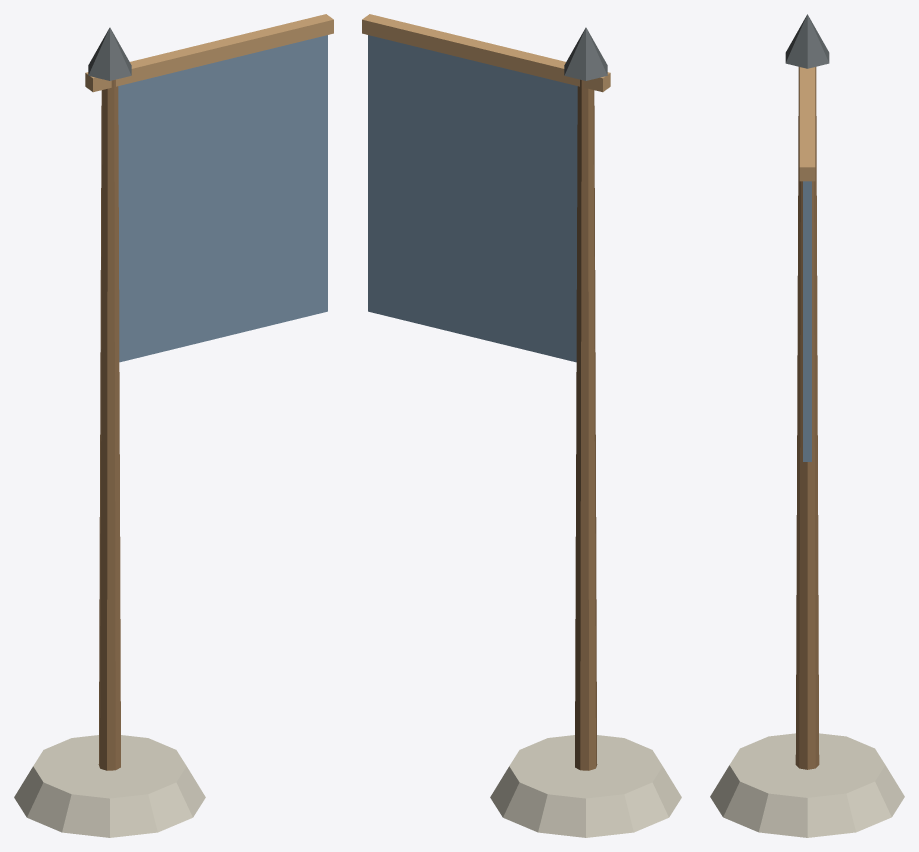
File: banner-pole.glb
The picture shows the model from 3 angles, left to right: view 1: azimuth 30°, elevation 25°; view 2: azimuth 150°, elevation 25°; view 3: azimuth 270°, elevation 25°; orthographic projection.
Visible parts, largest first — view 1: banner-pole; view 2: banner-pole; view 3: banner-pole.
Part boxes in pixels (x1,y1,x2,y2): banner-pole: (14, 14, 333, 837); banner-pole: (362, 14, 681, 837); banner-pole: (710, 14, 904, 837).
Size of the model in its own units: 1.83 by 4.43 by 1.
